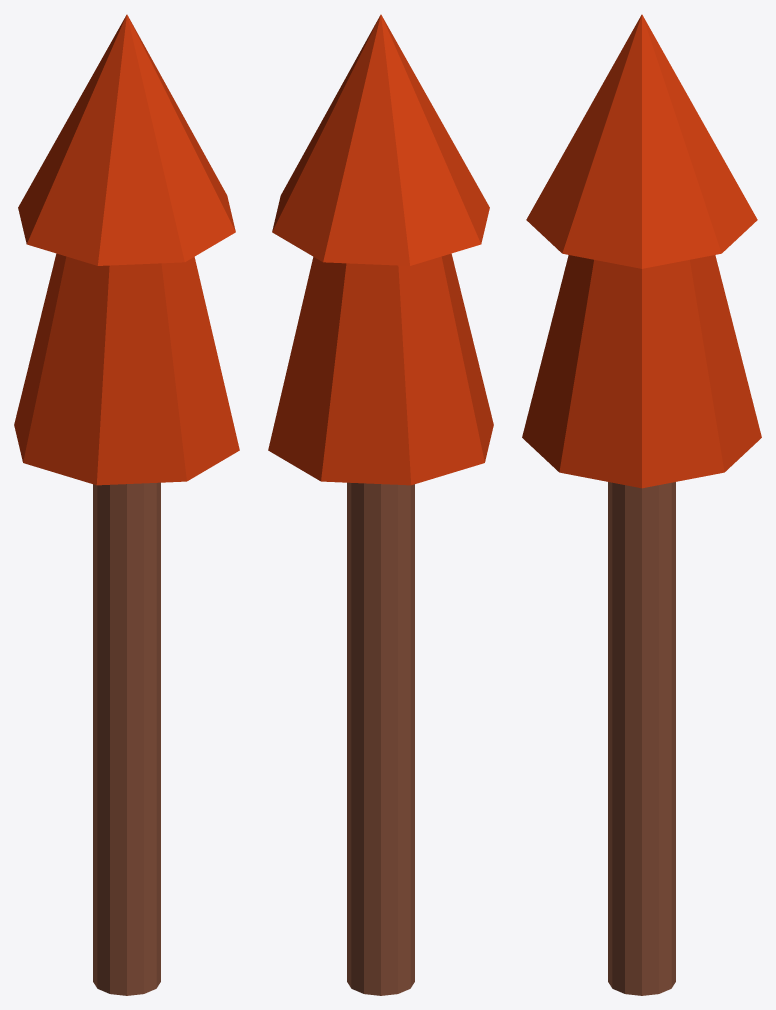
File: Tree_21_summer_red.fbx
3 renders of one model, left to right at view 1: azimuth 30°, elevation 25°; view 2: azimuth 150°, elevation 25°; view 3: azimuth 270°, elevation 25°, orthographic.
Parts seen in each view (by area): view 1: Tree_21_summer_red; view 2: Tree_21_summer_red; view 3: Tree_21_summer_red.
Part boxes in pixels (bbox=[...]): Tree_21_summer_red: bbox=[14, 14, 239, 995]; Tree_21_summer_red: bbox=[268, 14, 493, 995]; Tree_21_summer_red: bbox=[522, 14, 761, 995].
Bounding box in the file's own units: 77.92 × 347 × 77.92.
